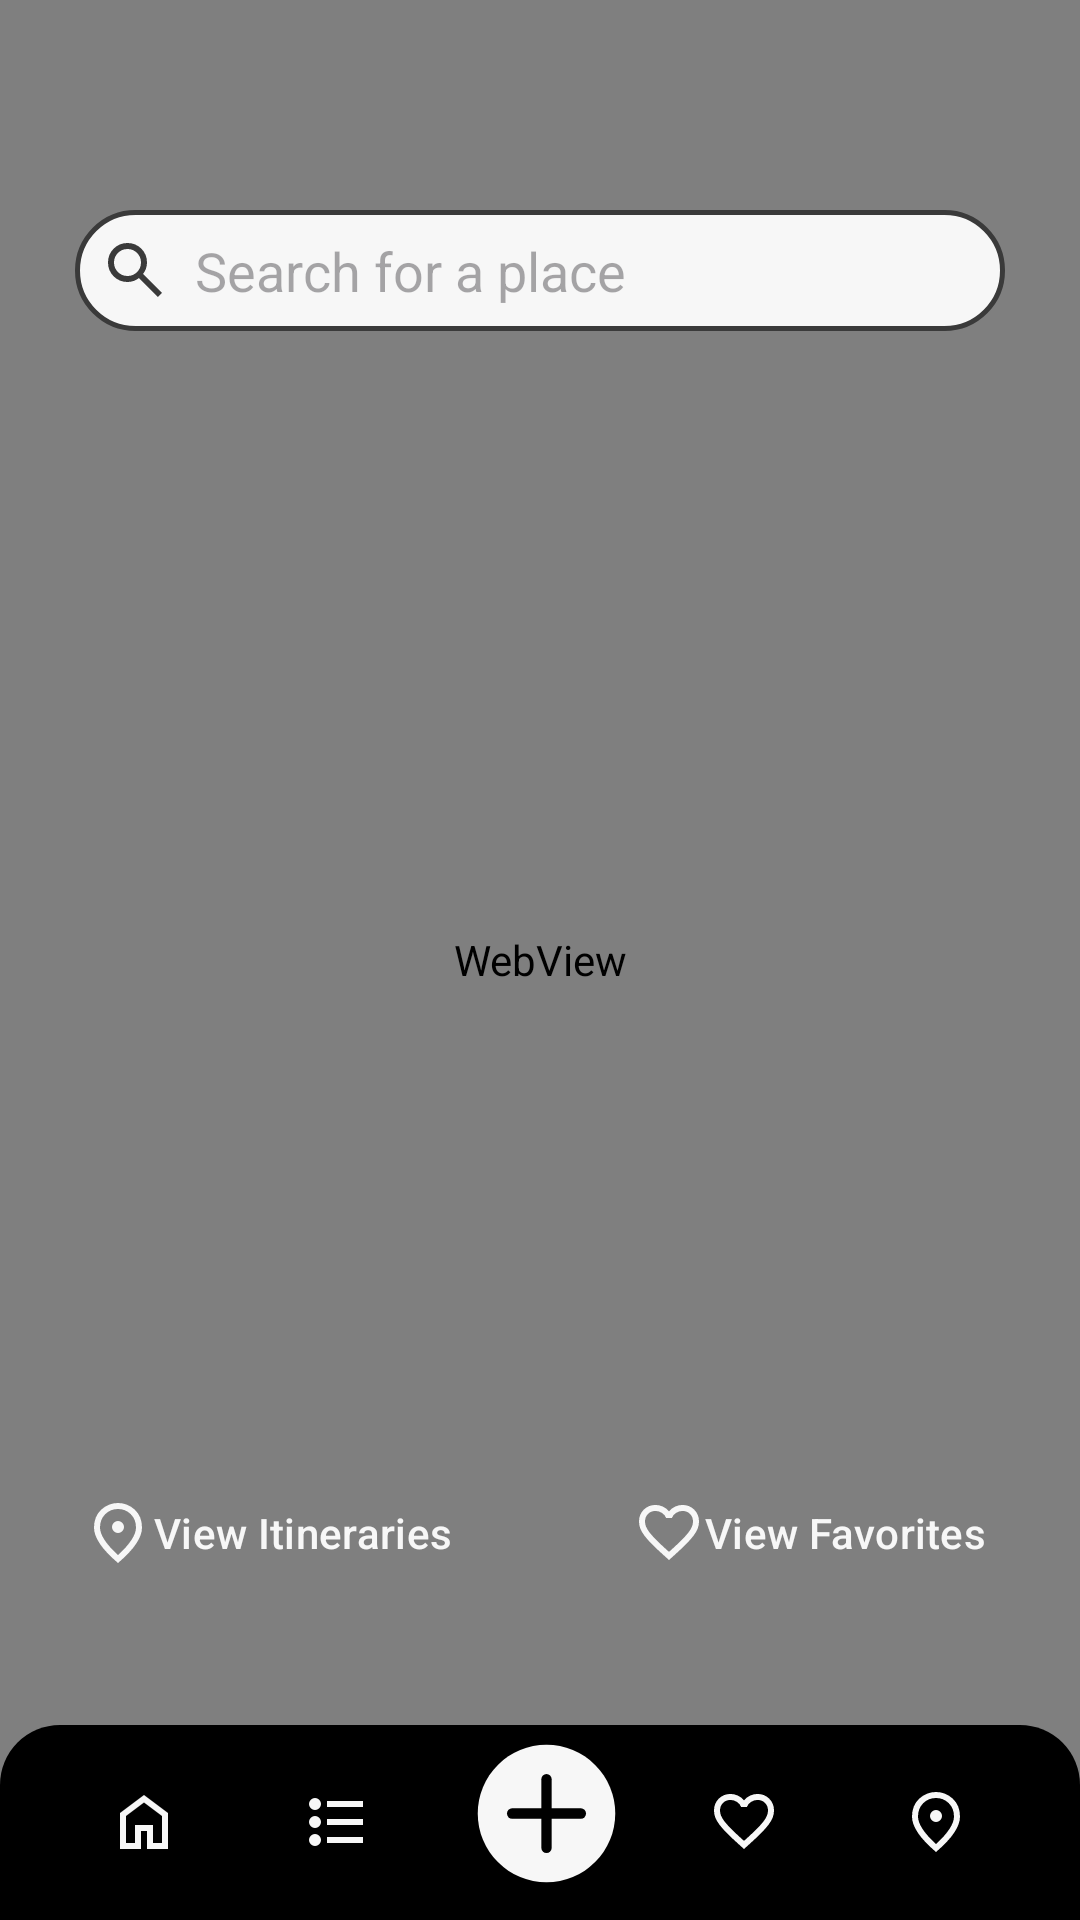

Screen size 1080px×1920px. Icon name, then its center in pixels as point (x, y):
Add: point (546, 1813)
Home: point (144, 1822)
Map: point (936, 1822)
